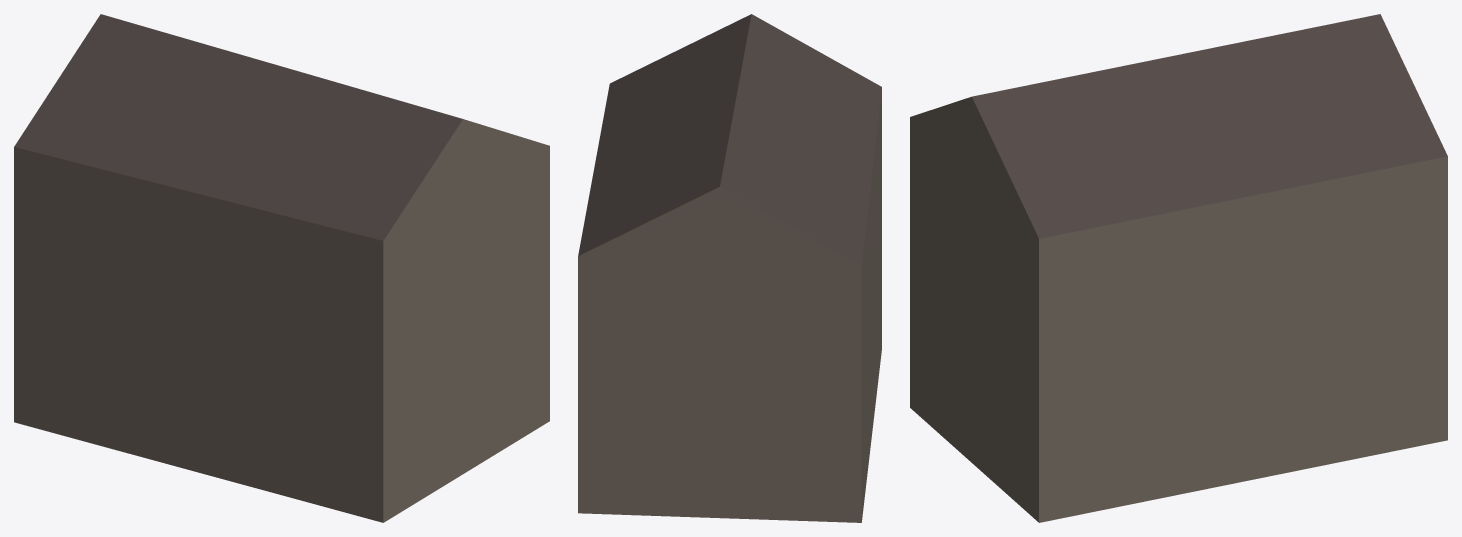
3 renders of one model, left to right at view 1: azimuth 30°, elevation 25°; view 2: azimuth 150°, elevation 25°; view 3: azimuth 270°, elevation 25°, orthographic. The views are drawn at different scales.
Visible parts, largest first — view 1: HP-w1198846693; view 2: HP-w1198846693; view 3: HP-w1198846693.
Boxes of the visible parts, x1,y1,x2,y2 form: HP-w1198846693: (14,14,549,522); HP-w1198846693: (578,14,881,522); HP-w1198846693: (910,14,1447,522).
Bounding box in the file's own units: 9.19 × 7.74 × 10.3.
